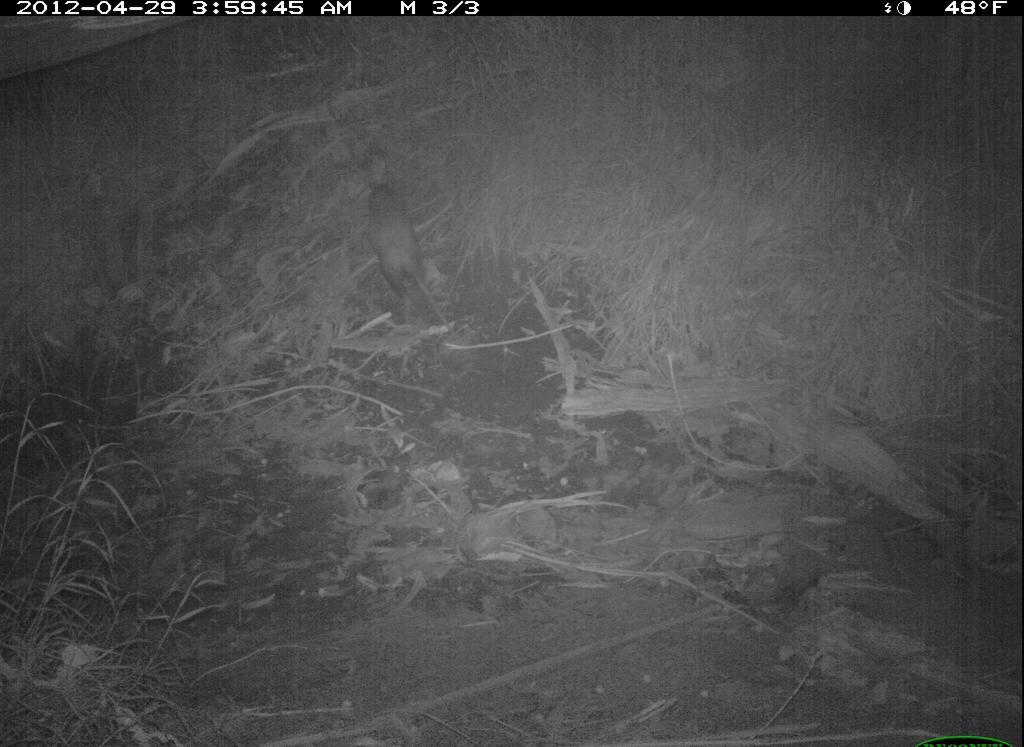opossum: (359, 155, 460, 346)
